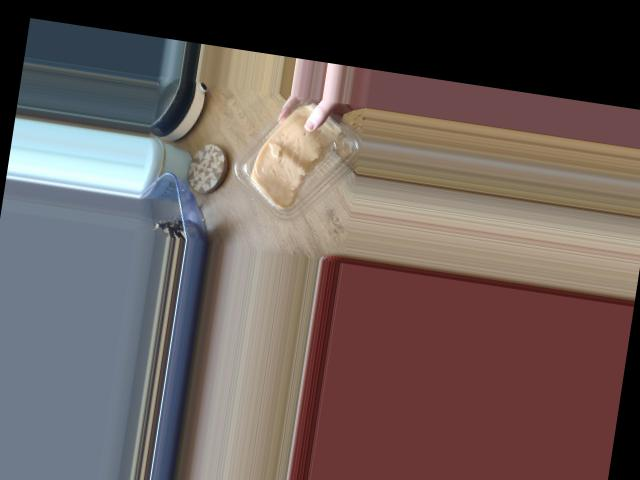cheese: (215, 96, 361, 243)
